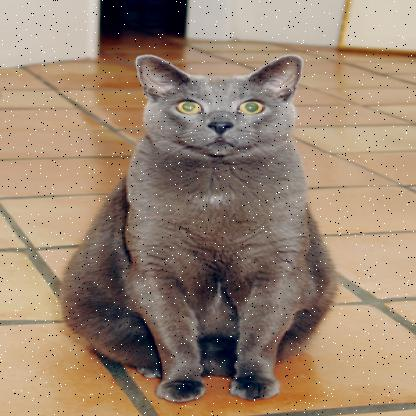cat: (66, 43, 345, 410)
